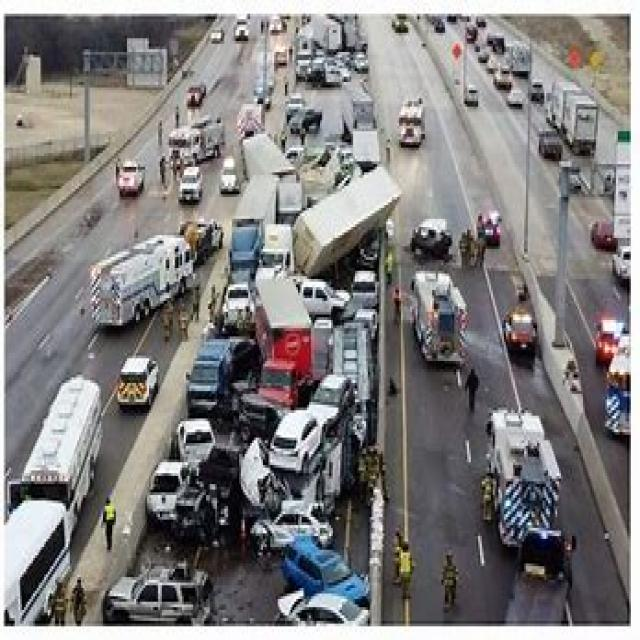Accident: (110, 98, 610, 632)
